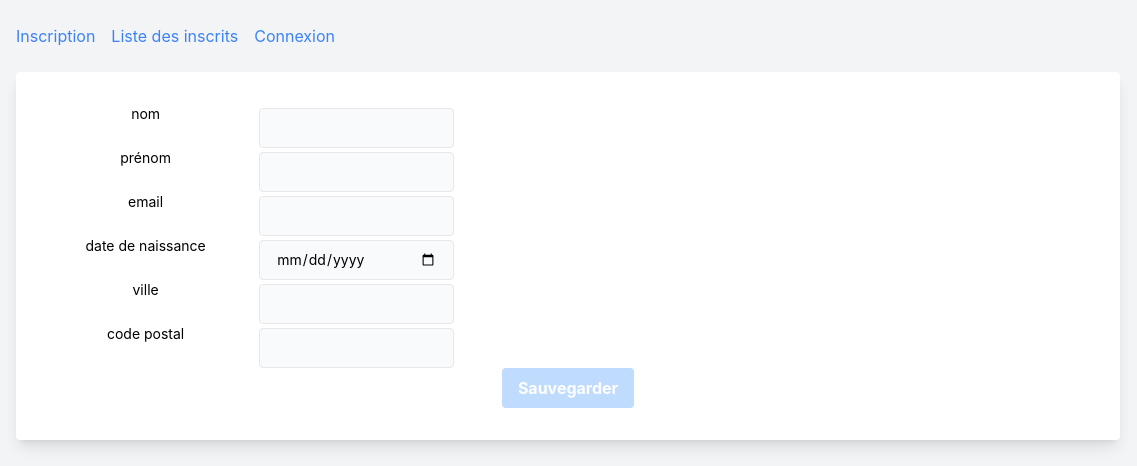
Scenario: Inscription form testing › form email is invalid
In the field named "nom": (357, 128) [259,108,454,148], type "TestN"
In the field named "prenom": (357, 172) [259,152,454,192], type "TestP"
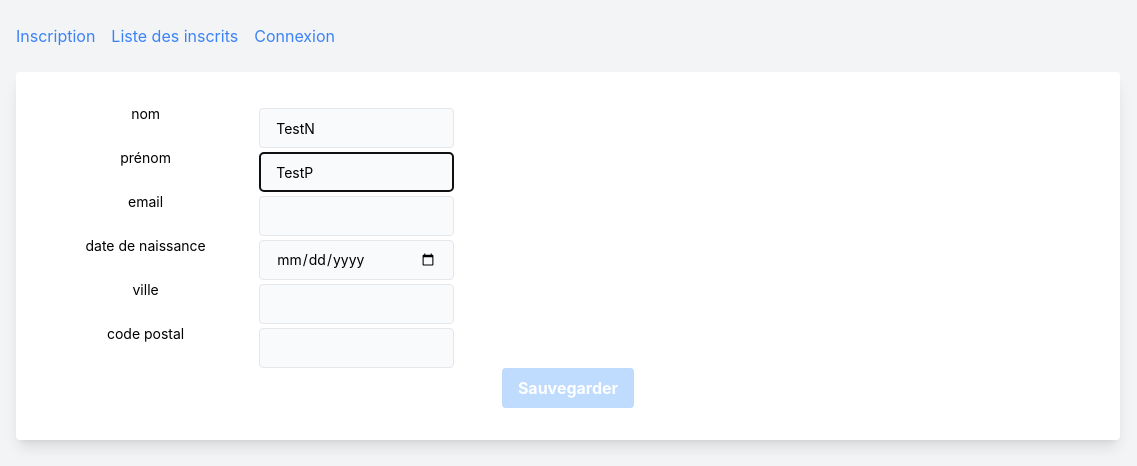
In the field named "email": (357, 216) [259,196,454,236], type "testp.testn@dd"
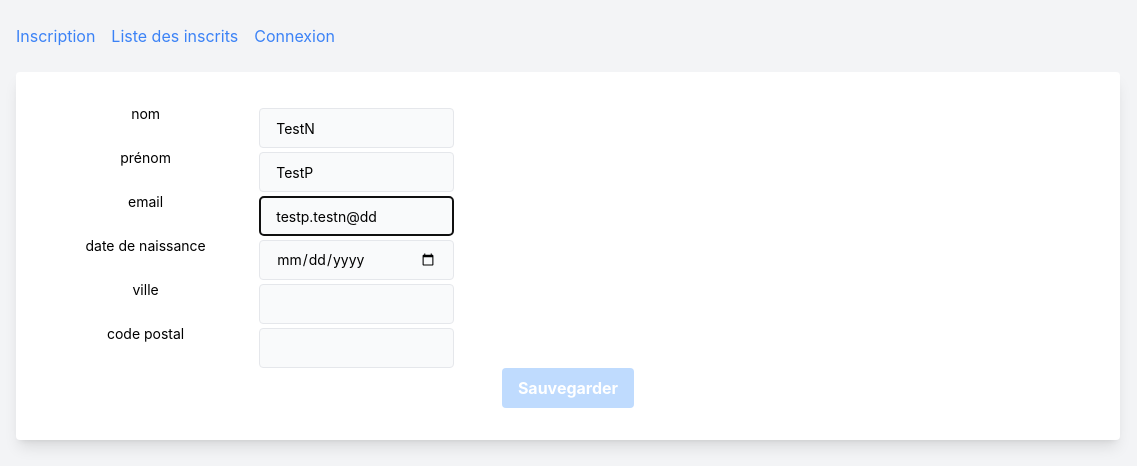
In the date field named "date": (357, 260) [259,240,454,280], type "1990-05-20"
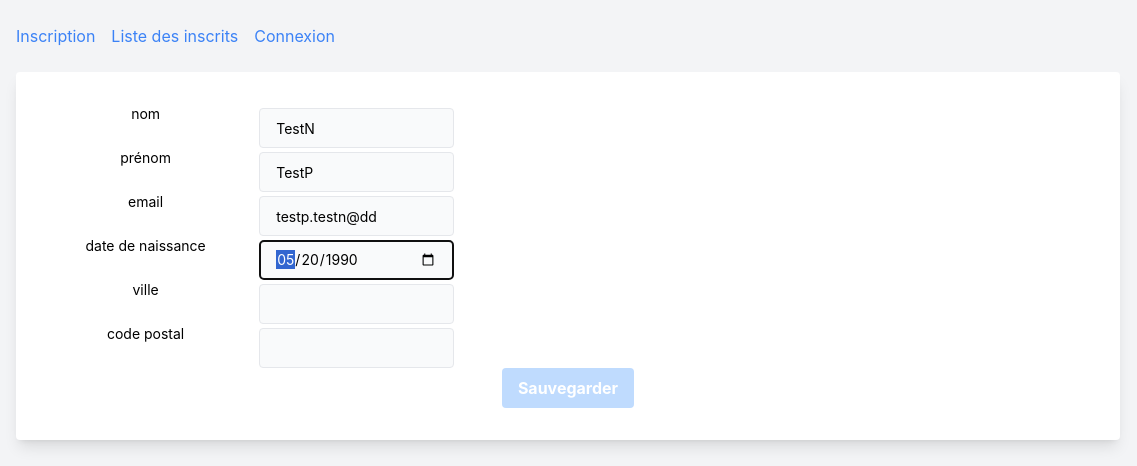
In the field named "ville": (357, 304) [259,284,454,324], type "Paris"
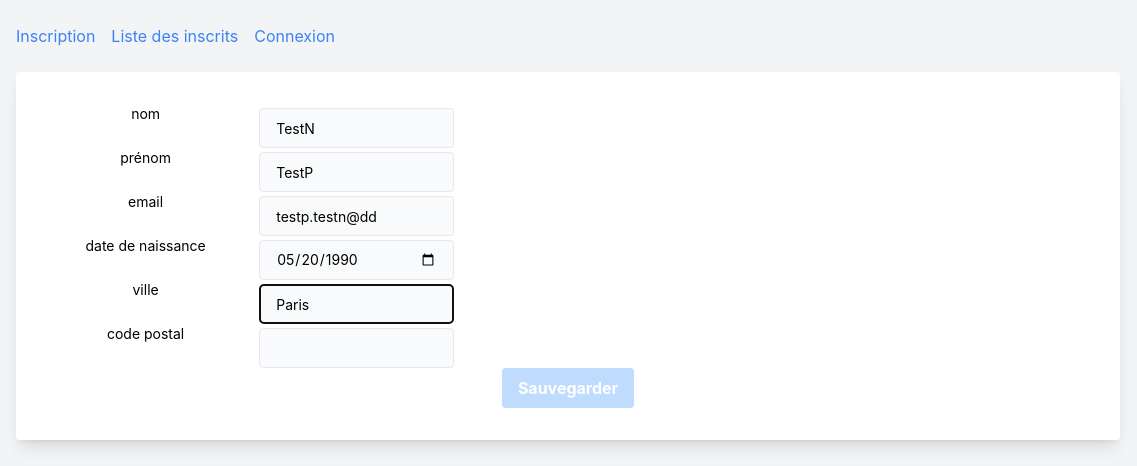
In the field named "code": (357, 348) [259,328,454,368], type "75001"
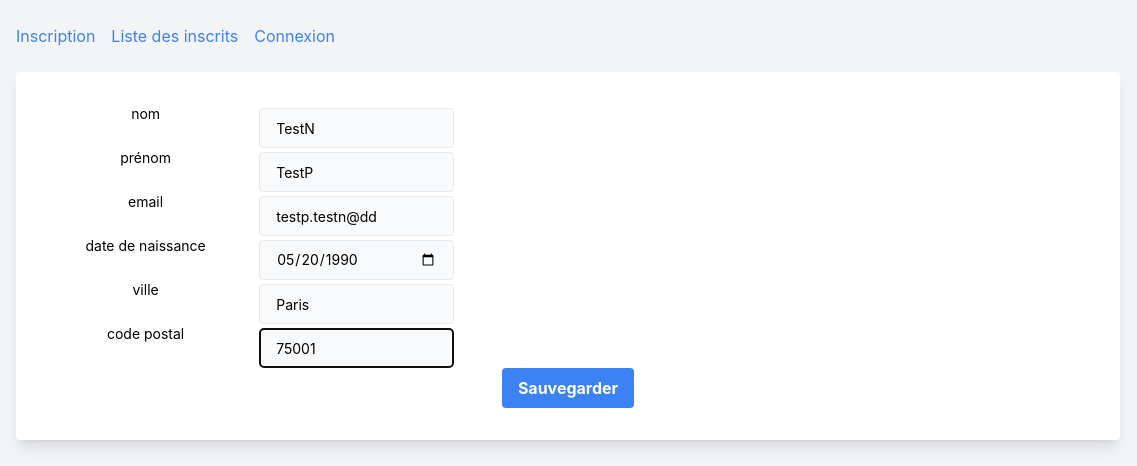
expect the submit button is enabled: met
Click the submit button: (568, 388) [502,368,634,408]
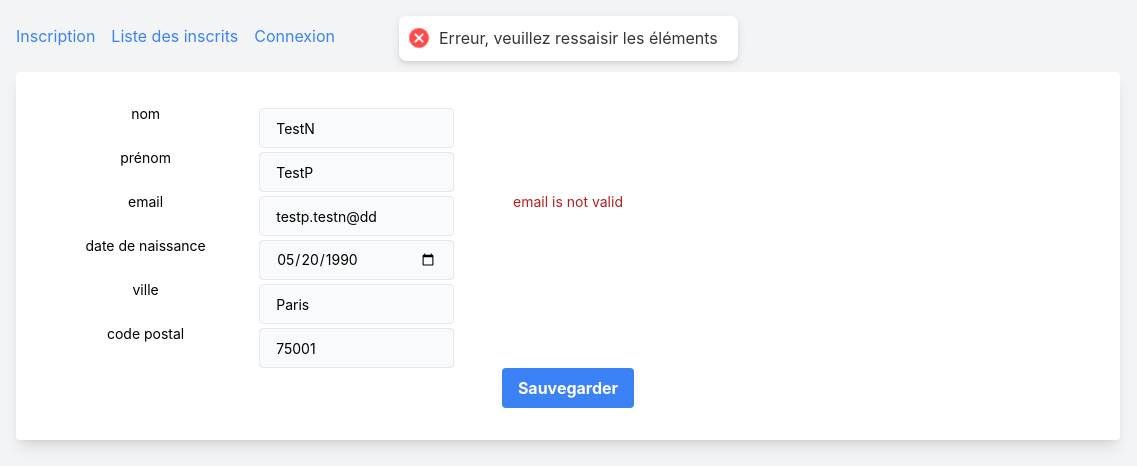
expect the text "email is not valid" is shown: met, box [513,193,623,210]
